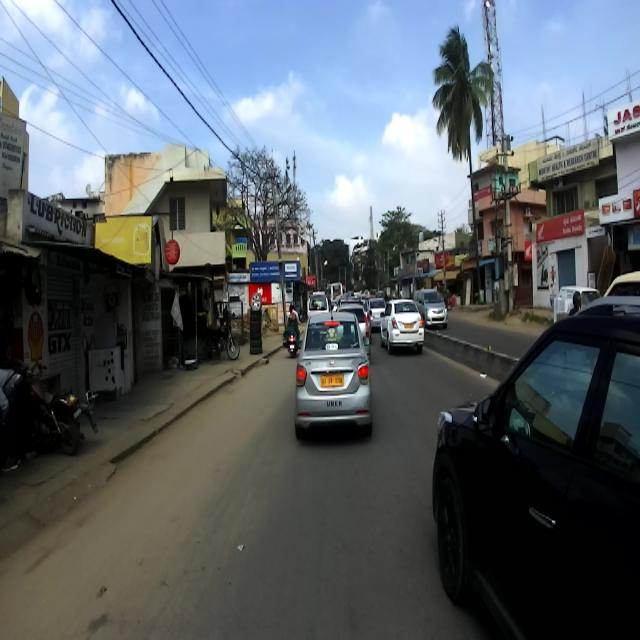car ahead at: (432, 297, 640, 640), (296, 306, 376, 433)
motorcycle ahead at: (16, 354, 88, 466)
